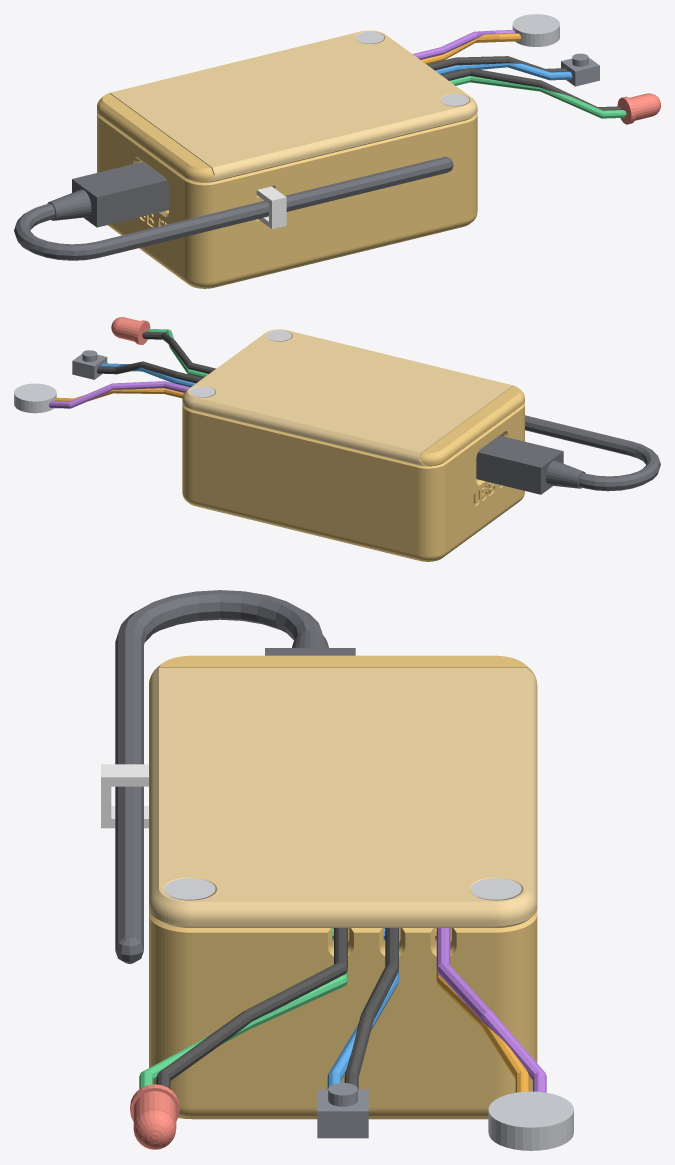
Rendered from assembly-14x20.glb.
3 views of the same model, one above another, from view 1: azimuth 30°, elevation 25°; view 2: azimuth 150°, elevation 25°; view 3: azimuth 270°, elevation 25° (orthographic). The views are drawn at different scales.
Visible parts, largest first — view 1: Box body (printed), Lid (printed), USB cable from the power bank, GND (black), Coin vibration motor, LED signal, GPIO 25 (green), LED, Paw button, GPIO 27 (blue), Paw push button, Cable tie (strain relief), Motor -, to collector (purple), Motor +, after R3 (orange) (+1 smaller); view 2: Box body (printed), Lid (printed), USB cable from the power bank, GND (black), Coin vibration motor, Motor -, to collector (purple), LED, Paw push button, Motor +, after R3 (orange), 2 x M3x10 countersunk lid screws, Paw button, GPIO 27 (blue); view 3: Lid (printed), Box body (printed), USB cable from the power bank, GND (black), Coin vibration motor, Motor -, to collector (purple), Paw push button, LED, 2 x M3x10 countersunk lid screws, Cable tie (strain relief), LED signal, GPIO 25 (green), Motor +, after R3 (orange) (+1 smaller).
Boxes of the visible parts, x1,y1,x2,y2 form: Box body (printed): (97, 93, 477, 288); Lid (printed): (110, 30, 477, 182); USB cable from the power bank: (14, 156, 453, 260); GND (black): (427, 56, 621, 110); Coin vibration motor: (512, 14, 559, 46); LED signal, GPIO 25 (green): (449, 76, 626, 118); LED: (617, 93, 660, 124); Paw button, GPIO 27 (blue): (435, 63, 572, 80); Paw push button: (561, 53, 599, 86); Cable tie (strain relief): (256, 186, 286, 228); Motor -, to collector (purple): (412, 30, 514, 59); Motor +, after R3 (orange): (421, 33, 521, 64); Box body (printed): (182, 386, 524, 561); Lid (printed): (182, 329, 513, 466); USB cable from the power bank: (476, 415, 660, 494); GND (black): (97, 332, 215, 383); Coin vibration motor: (14, 383, 56, 413); Motor -, to collector (purple): (49, 381, 190, 408); LED: (111, 317, 150, 344); Paw push button: (72, 350, 107, 379); Motor +, after R3 (orange): (54, 388, 184, 401); 2 x M3x10 countersunk lid screws: (190, 330, 291, 397); Paw button, GPIO 27 (blue): (101, 363, 195, 387); Lid (printed): (149, 668, 537, 927); Box body (printed): (149, 655, 537, 1119); USB cable from the power bank: (115, 590, 355, 963); GND (black): (156, 928, 398, 1089); Coin vibration motor: (488, 1091, 573, 1150); Motor -, to collector (purple): (435, 928, 546, 1092); Paw push button: (317, 1083, 368, 1138); LED: (130, 1084, 179, 1149); 2 x M3x10 countersunk lid screws: (164, 878, 521, 900); Cable tie (strain relief): (101, 764, 148, 828); LED signal, GPIO 25 (green): (139, 928, 347, 1088); Motor +, after R3 (orange): (435, 928, 529, 1092).
Bounding box in the file's own units: 0.151 × 0.028 × 0.0553.
